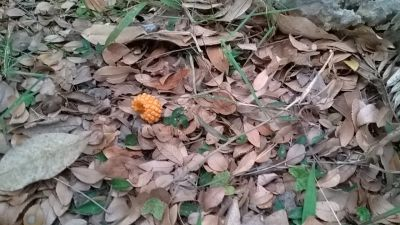eggs: (132, 93, 162, 122)
